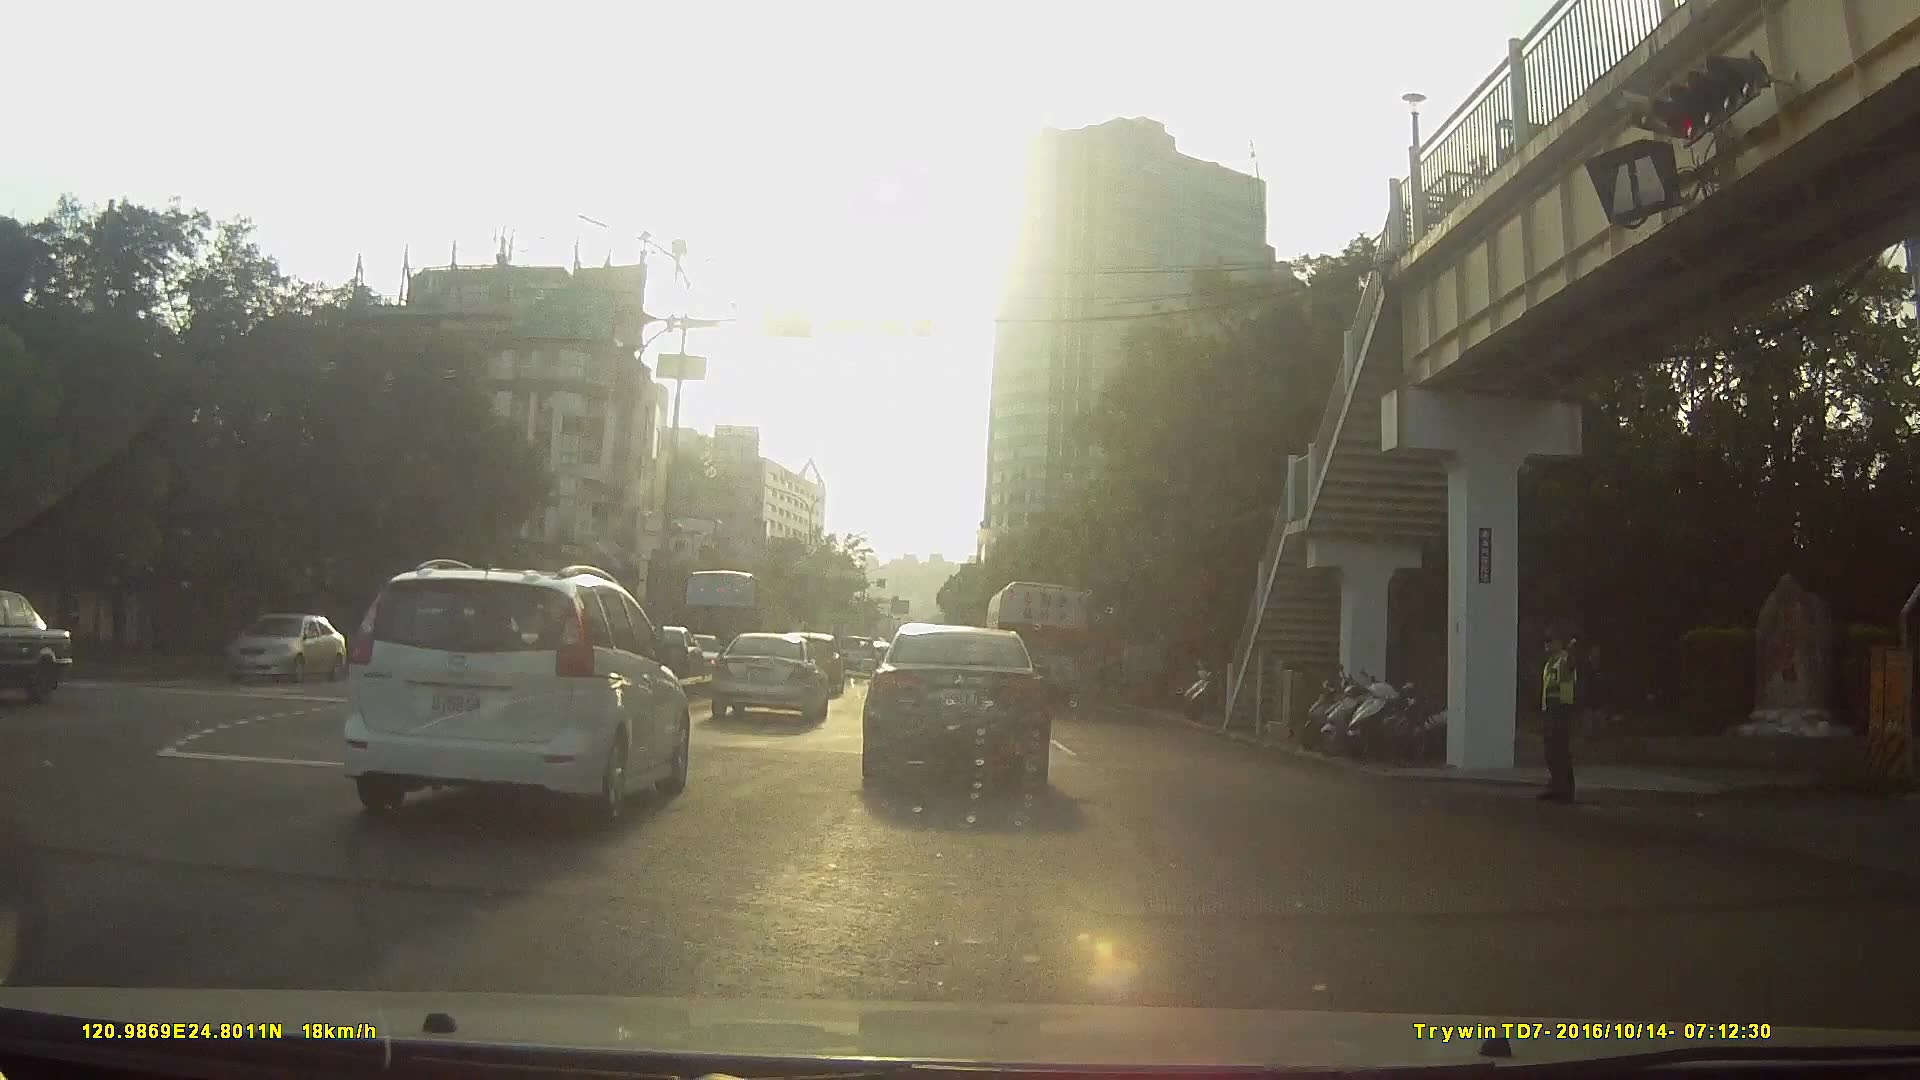pedestrian: (1531, 621, 1597, 800)
vehicle: (250, 556, 684, 868), (345, 553, 692, 821), (856, 614, 1048, 786), (980, 574, 1091, 706), (219, 602, 359, 690), (708, 624, 829, 719), (676, 562, 781, 665), (1, 595, 77, 702), (832, 628, 880, 675)
